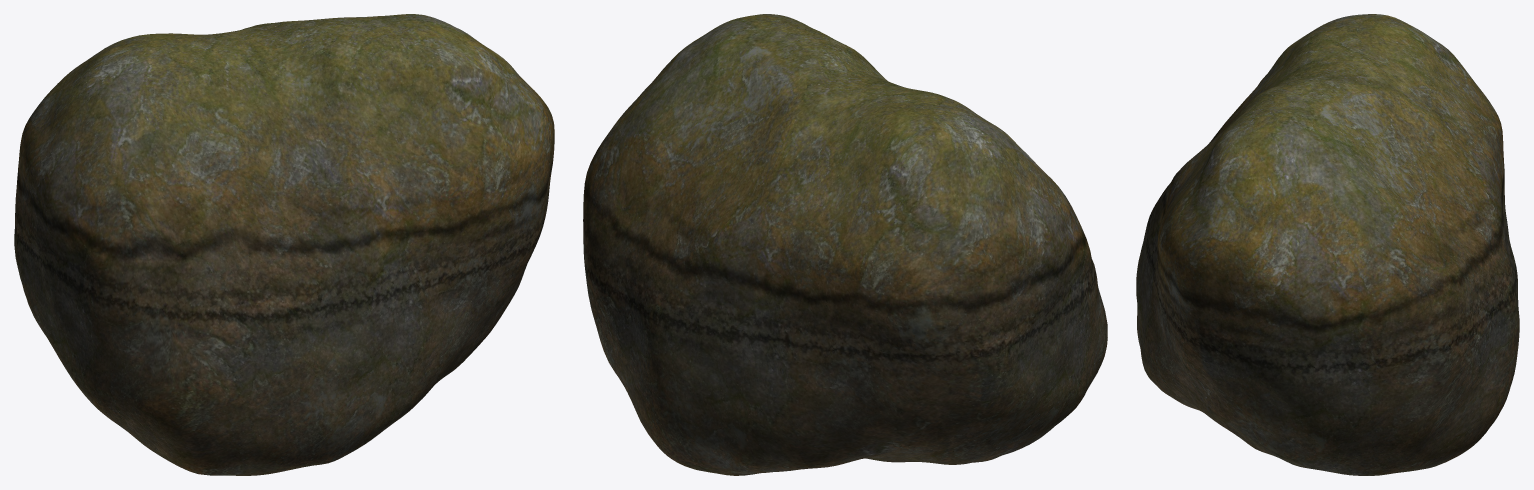
The model's file is ResourceTypeId_5001.fbx.
3 views of the same model, side by side, from view 1: azimuth 30°, elevation 25°; view 2: azimuth 150°, elevation 25°; view 3: azimuth 270°, elevation 25° (orthographic). The views are drawn at different scales.
Parts seen in each view (by area): view 1: rock.002; view 2: rock.002; view 3: rock.002.
Part boxes in pixels (<box>): rock.002: <box>14,14,554,475</box>; rock.002: <box>583,14,1107,475</box>; rock.002: <box>1136,14,1519,475</box>.
Bounding box in the file's own units: 39.48 × 31.54 × 29.97.
